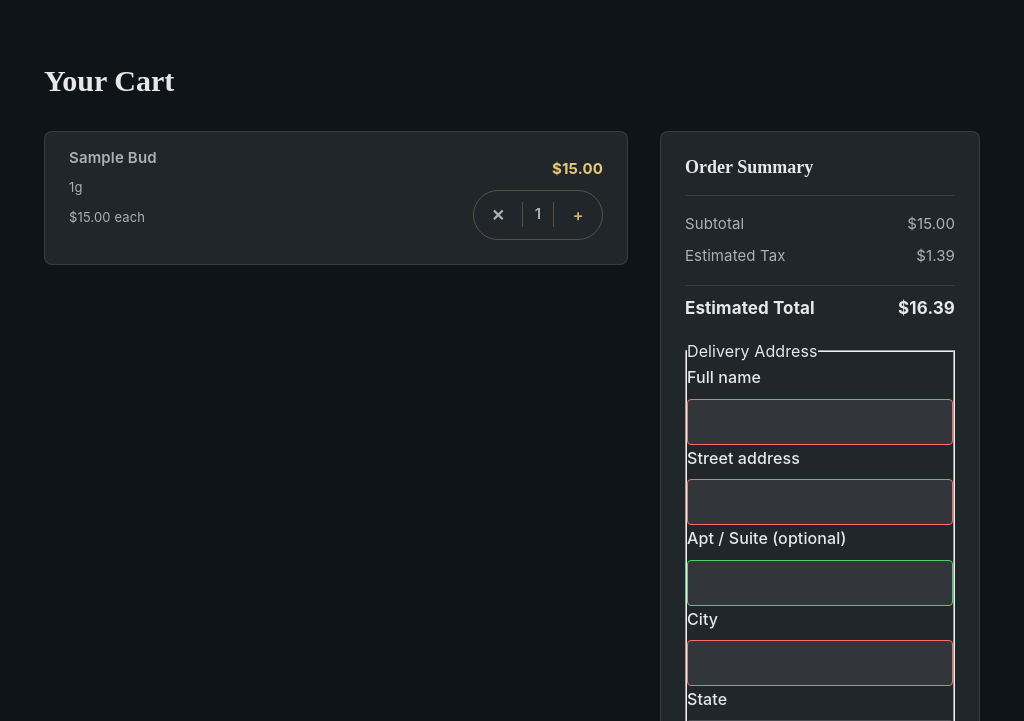
it: CartPage — single-button checkout › validation gates › Given a complete shippable form, When validated, Then the Checkout button is enabled
Type "KB Test" into the field labelled "Full name".
click(820, 422); type("KB Test")  # box [687, 399, 953, 445]
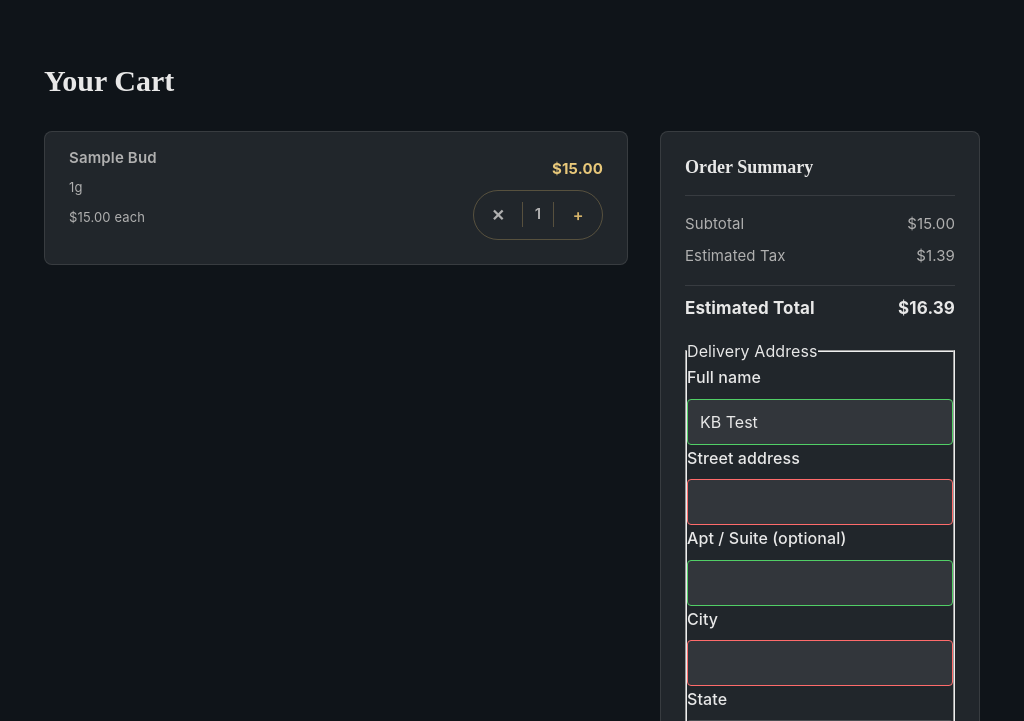
Type "1 Main St" into the field labelled "Street address".
click(820, 502); type("1 Main St")  # box [687, 479, 953, 525]
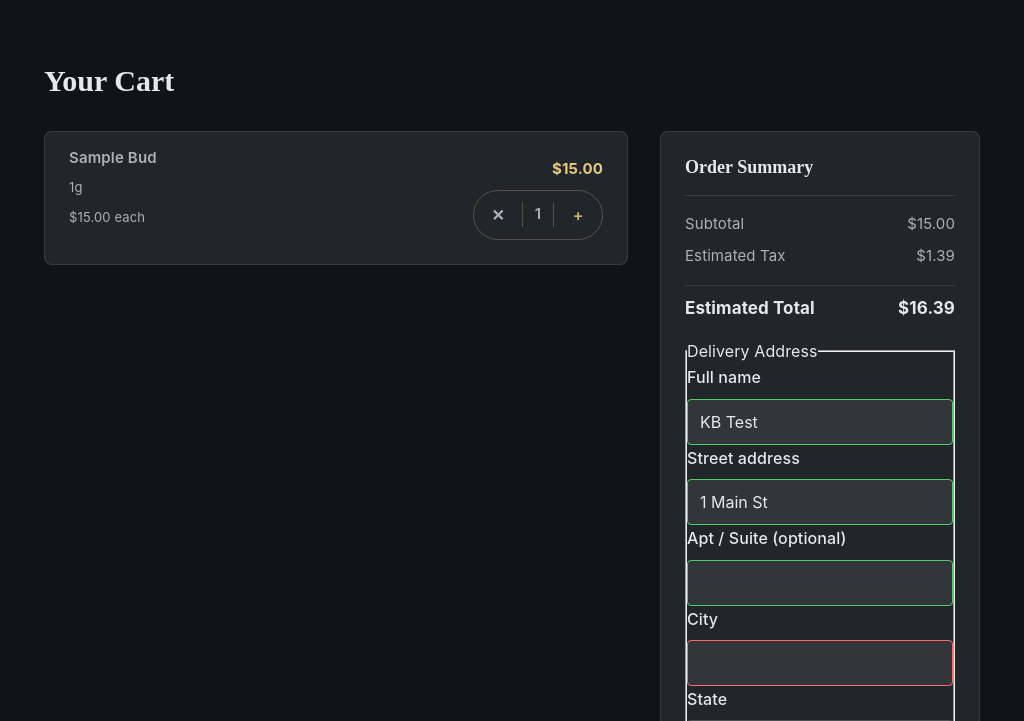
Type "Knoxville" into the field labelled "City".
click(820, 663); type("Knoxville")  # box [687, 640, 953, 686]
(page scrolled)
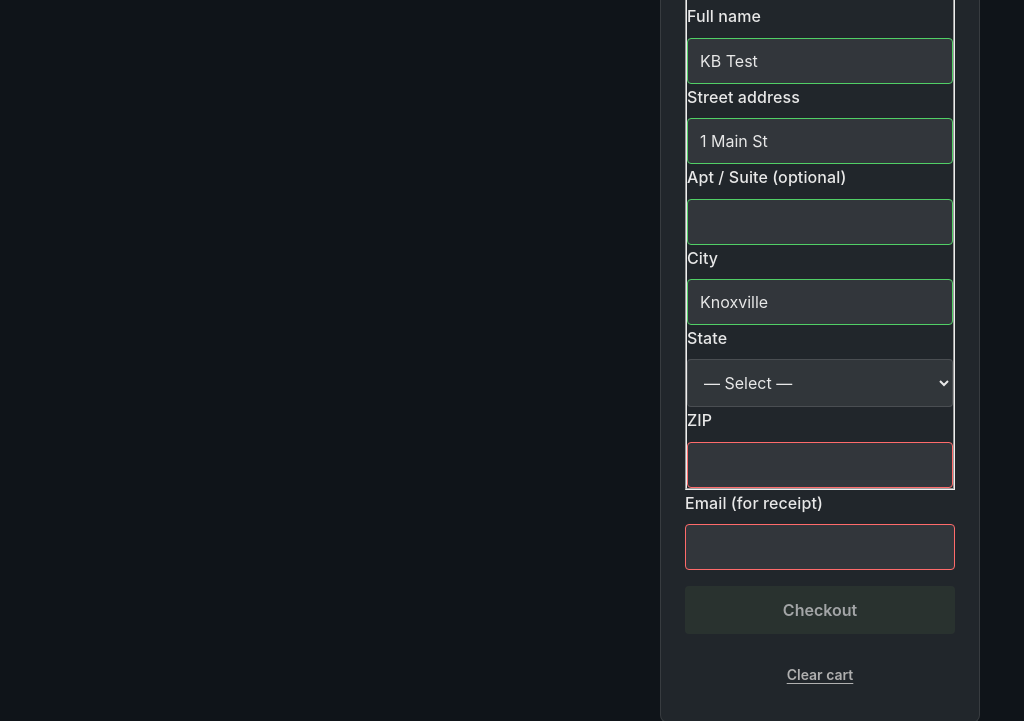
Select "Tennessee" in the dropdown labelled "State" at [820, 383], box [687, 359, 953, 407]
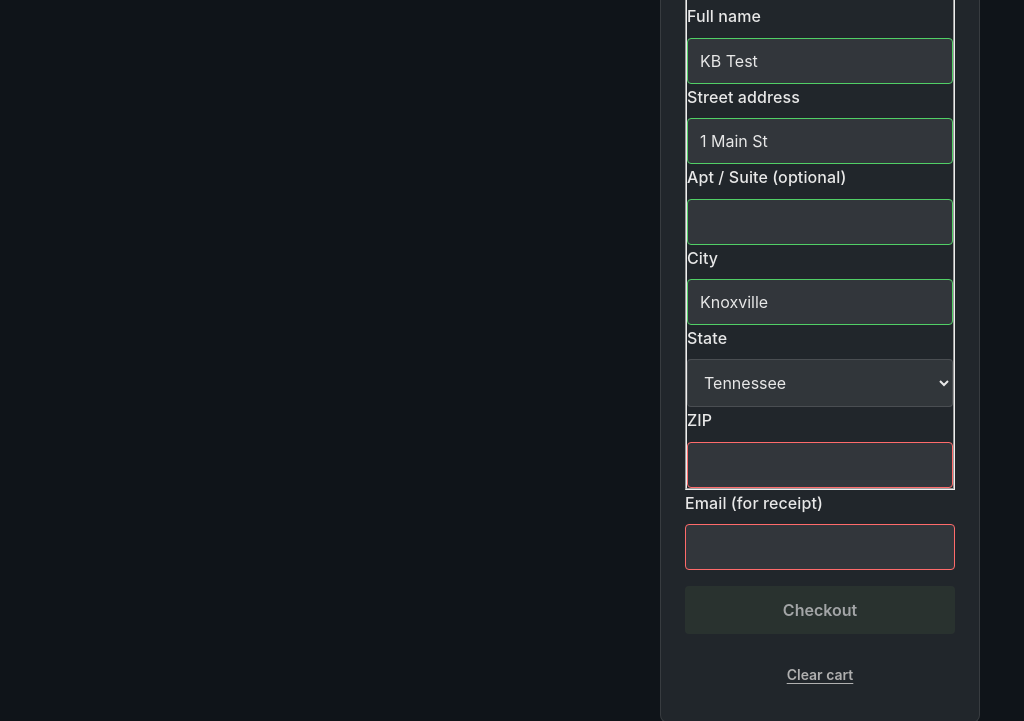
Type "37902" into the field labelled "ZIP".
click(820, 465); type("37902")  # box [687, 442, 953, 488]
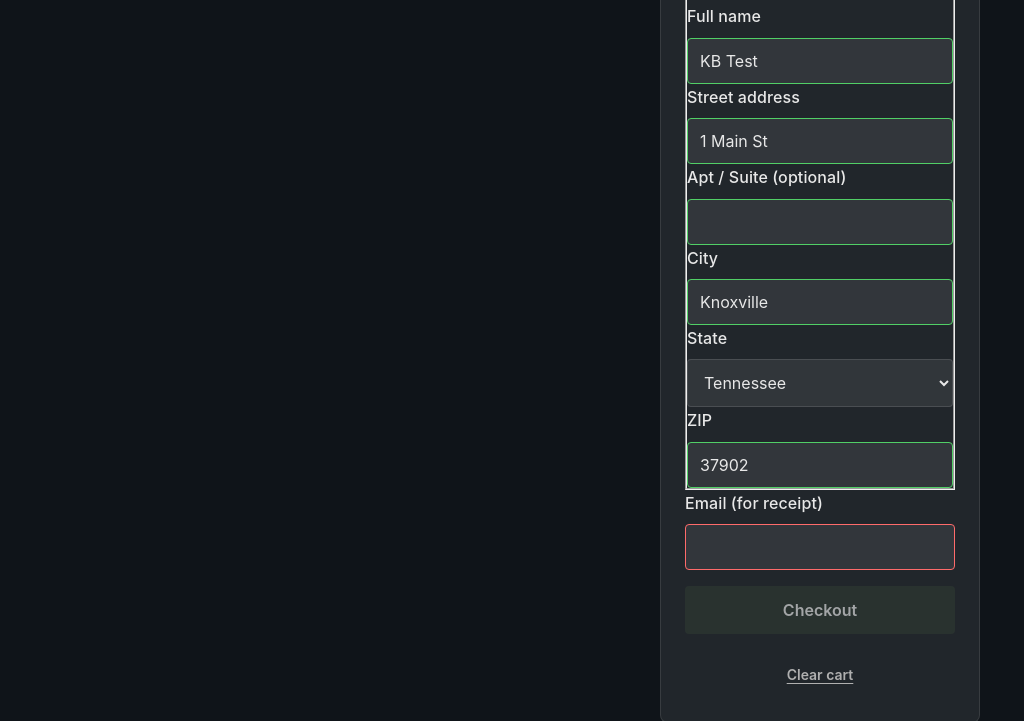
Type "kb@example.com" into the field labelled "Email (for receipt)".
click(820, 547); type("kb@example.com")  # box [685, 524, 955, 570]
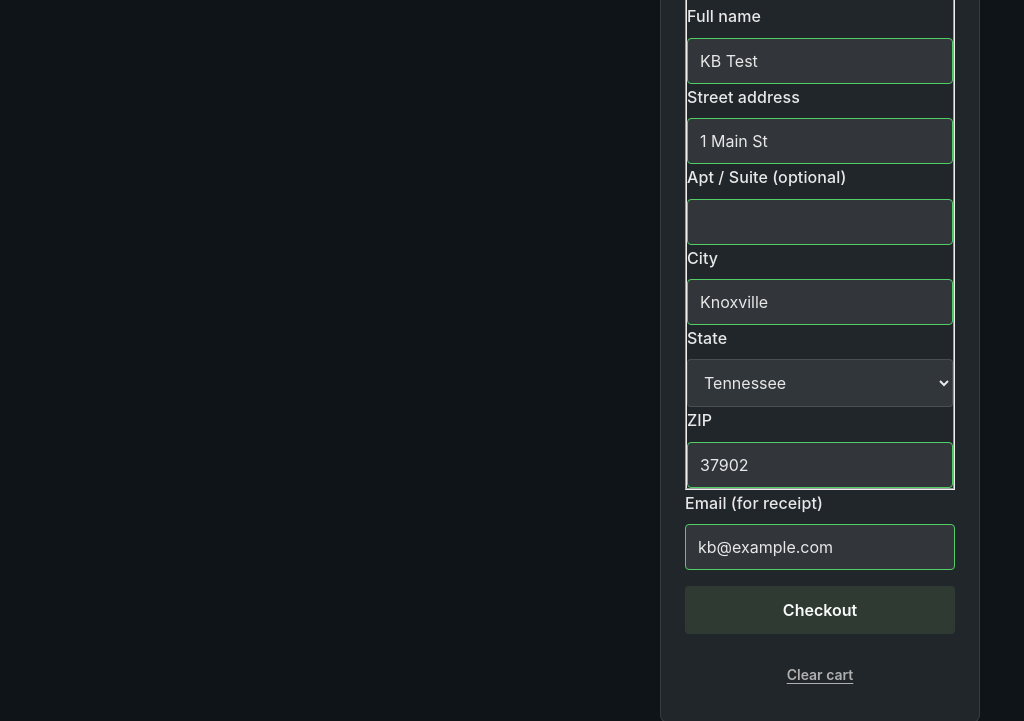
Check: the button "Checkout" is enabled, box [685, 586, 955, 634]
